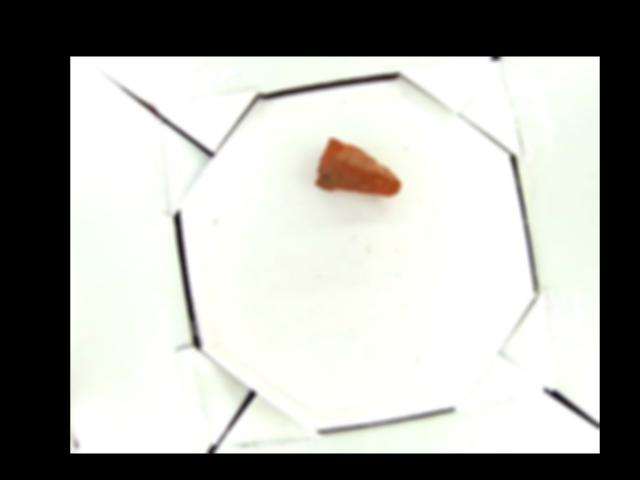Brisk: (315, 136, 401, 197)
